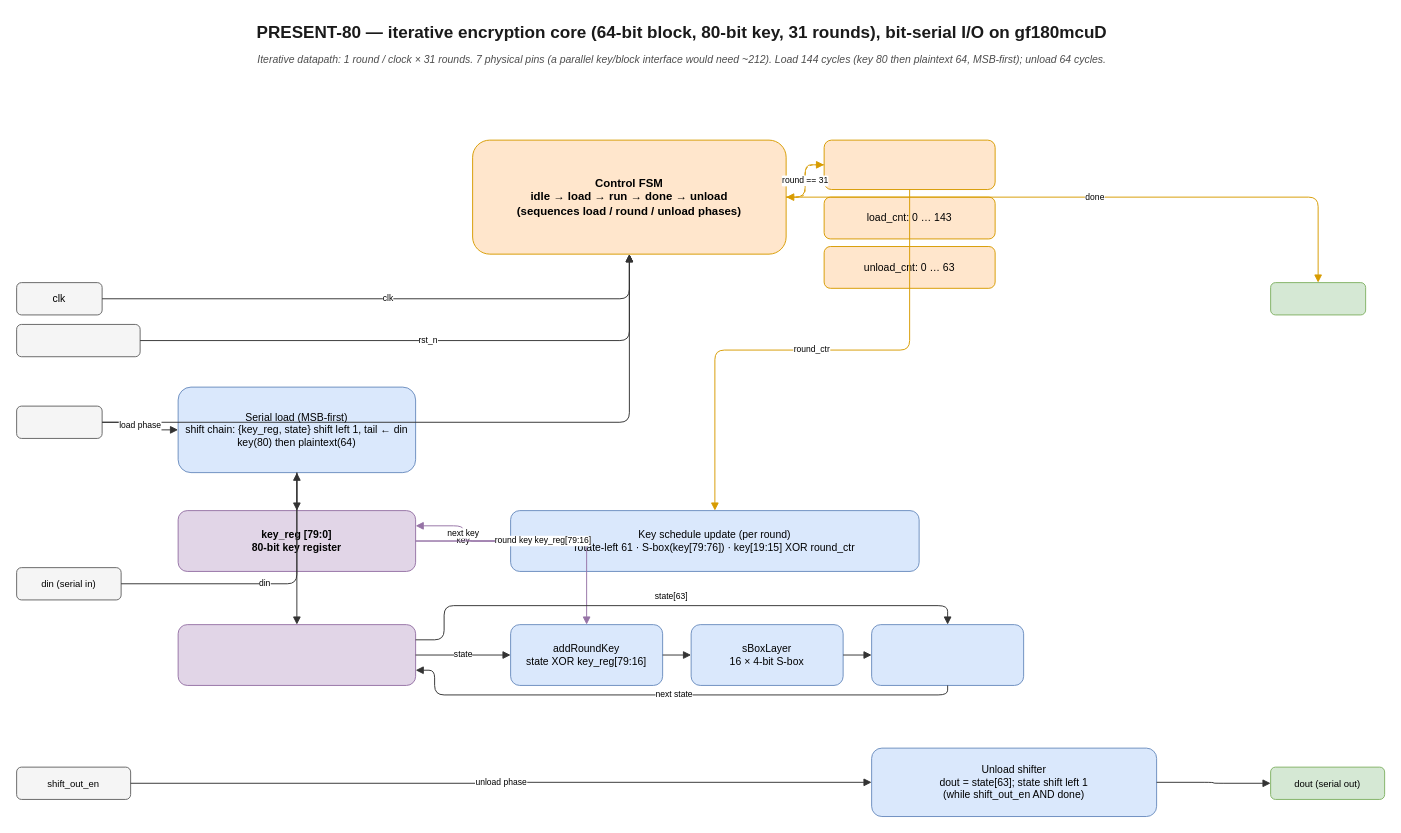
Image size: 1401x833. Some labels were removed from this diagram. Each missing label, with the centre of its shape:
done (out): pixel 1318 298
load_en: pixel 59 421
pLayer 64-bit bit-permutation: pixel 947 654
round_ctr (5-bit) 1 … 31: pixel 909 164
rst_n (async, active-low): pixel 78 340
state [63:0] 64-bit block register: pixel 296 654
